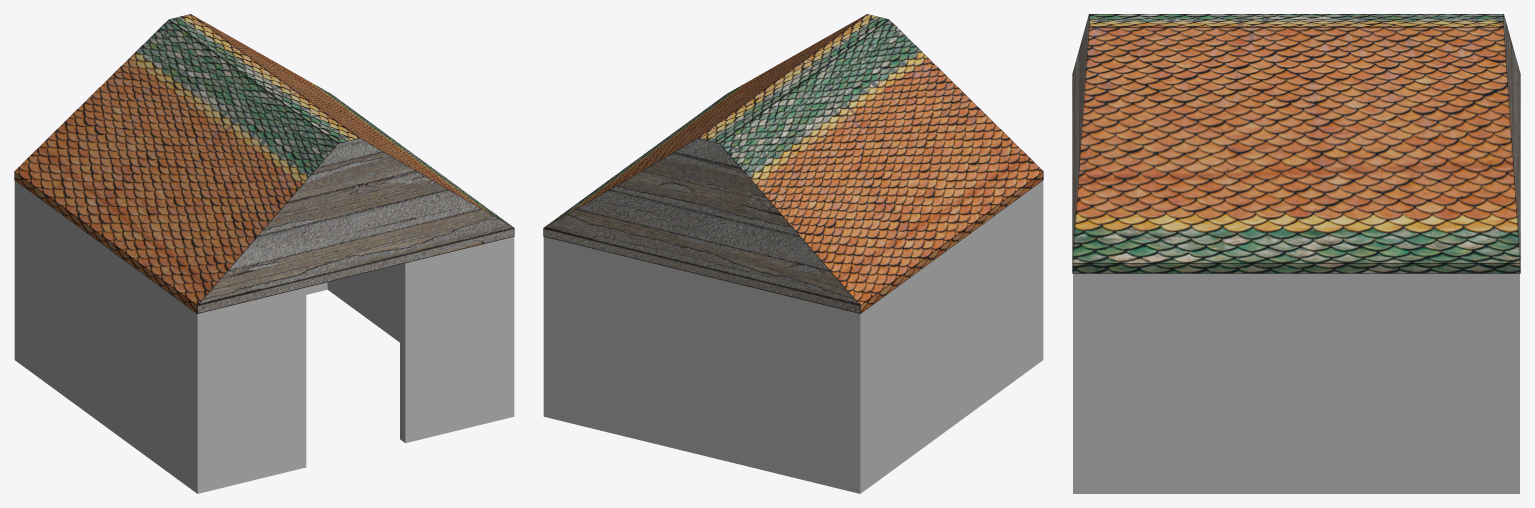
Rendered from WaterShed.dae.
3 renders of one model, left to right at view 1: azimuth 30°, elevation 25°; view 2: azimuth 150°, elevation 25°; view 3: azimuth 270°, elevation 25°, orthographic. The views are drawn at different scales.
Visible parts, largest first — view 1: Roof, Walls; view 2: Walls, Roof; view 3: Roof, Walls.
Part boxes in pixels (x1,y1,x2,y2): Roof: (14, 14, 514, 313); Walls: (14, 180, 514, 493); Walls: (543, 180, 1043, 493); Roof: (543, 14, 1043, 313); Roof: (1072, 14, 1520, 273); Walls: (1073, 273, 1519, 493).
Size of the model in its own units: 7.96 by 7.96 by 7.42.
